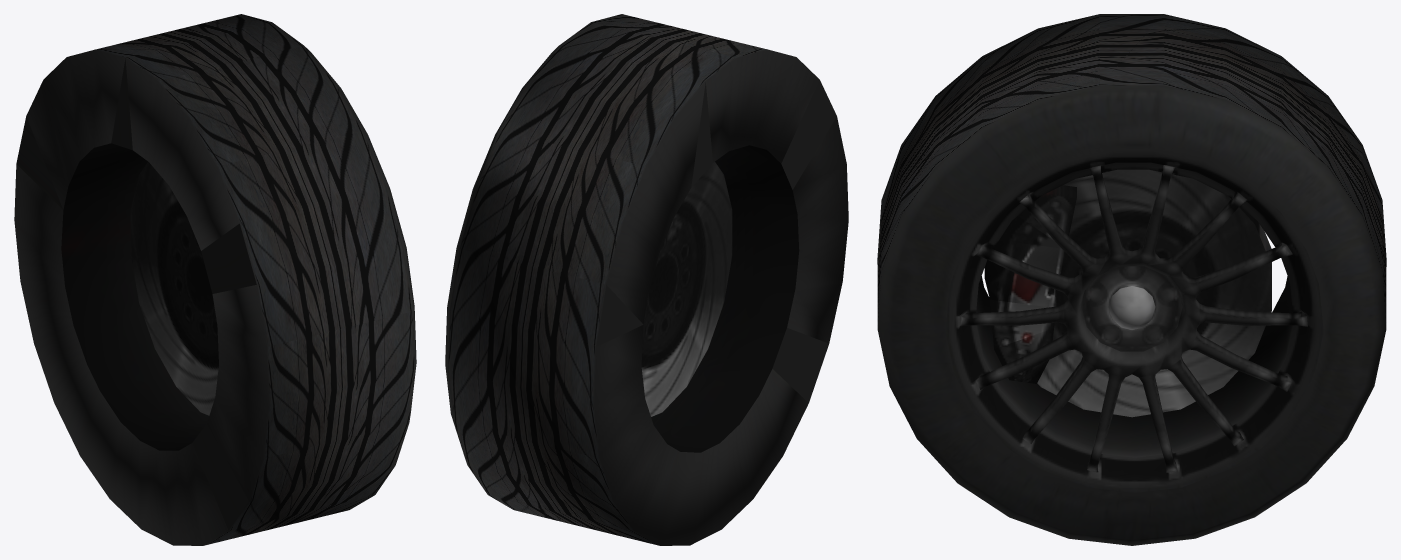
The model's file is WP03_wheelpack.glb.
The picture shows the model from 3 angles, left to right: view 1: azimuth 30°, elevation 25°; view 2: azimuth 150°, elevation 25°; view 3: azimuth 270°, elevation 25°; orthographic projection.
Visible parts, largest first — view 1: MOD_ND_WP03_tyre, MOD_ND_WP03_brakes; view 2: MOD_ND_WP03_tyre, MOD_ND_WP03_brakes; view 3: MOD_ND_WP03_tyre, MOD_ND_WP03_rim, MOD_ND_WP03_brakes.
Part boxes in pixels (x1,y1,x2,y2): MOD_ND_WP03_tyre: (14,14,416,545); MOD_ND_WP03_brakes: (130,161,218,415); MOD_ND_WP03_tyre: (445,14,848,545); MOD_ND_WP03_brakes: (641,162,732,416); MOD_ND_WP03_tyre: (877,14,1386,545); MOD_ND_WP03_rim: (961,165,1307,472); MOD_ND_WP03_brakes: (984,169,1271,417).
Bounding box in the file's own units: 0.2326 × 0.6399 × 0.6411.
2 materials, 2 textured.
